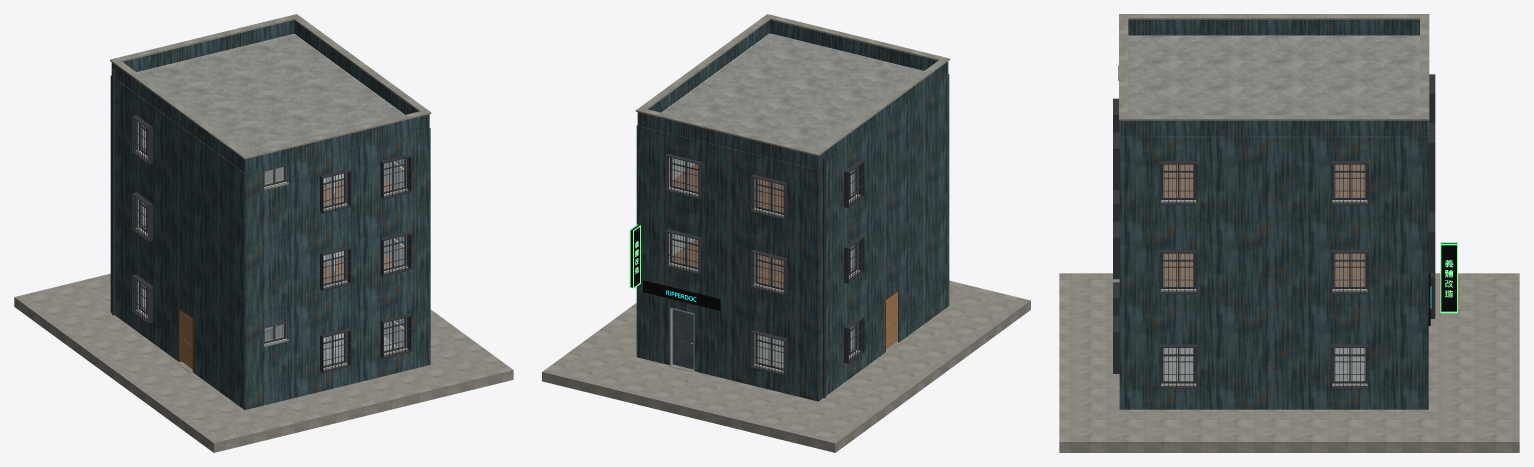
Rendered from b_cyberware_clinic.gltf.
The picture shows the model from 3 angles, left to right: view 1: azimuth 30°, elevation 25°; view 2: azimuth 150°, elevation 25°; view 3: azimuth 270°, elevation 25°; orthographic projection. The views are drawn at different scales.
Parts seen in each view (by area): view 1: S_cyberware_clinic, D_cyberware_clinic_F1_E1_Door0; view 2: S_cyberware_clinic, D_cyberware_clinic_F1_S1_Door0, D_cyberware_clinic_F1_E1_Door0; view 3: S_cyberware_clinic.
Boxes of the visible parts, x1,y1,x2,y2 form: S_cyberware_clinic: [14, 14, 513, 452]; D_cyberware_clinic_F1_E1_Door0: [182, 312, 192, 368]; S_cyberware_clinic: [542, 14, 1030, 452]; D_cyberware_clinic_F1_S1_Door0: [672, 309, 693, 369]; D_cyberware_clinic_F1_E1_Door0: [886, 293, 896, 349]; S_cyberware_clinic: [1059, 14, 1519, 452].
Bounding box in the file's own units: 13 × 10.86 × 15.
20 materials, 11 textured.
